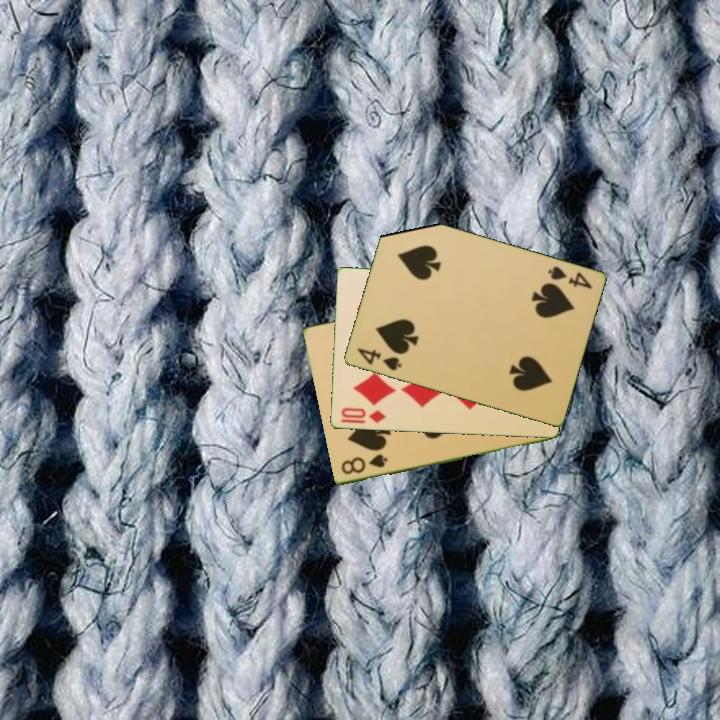10d: (337, 404, 389, 426)
4s: (354, 344, 404, 374), (544, 263, 595, 292)
8s: (337, 451, 390, 478)
